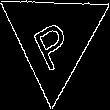P_NW: (29, 7, 79, 70)
